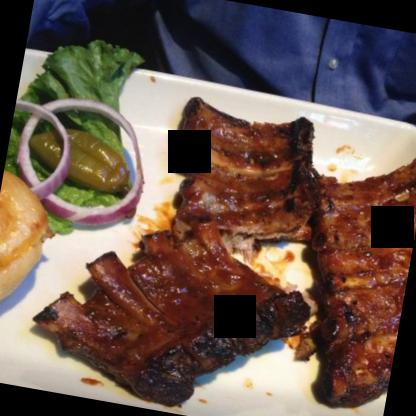pork rib: (31, 200, 320, 415), (274, 118, 415, 415), (160, 93, 328, 255)
